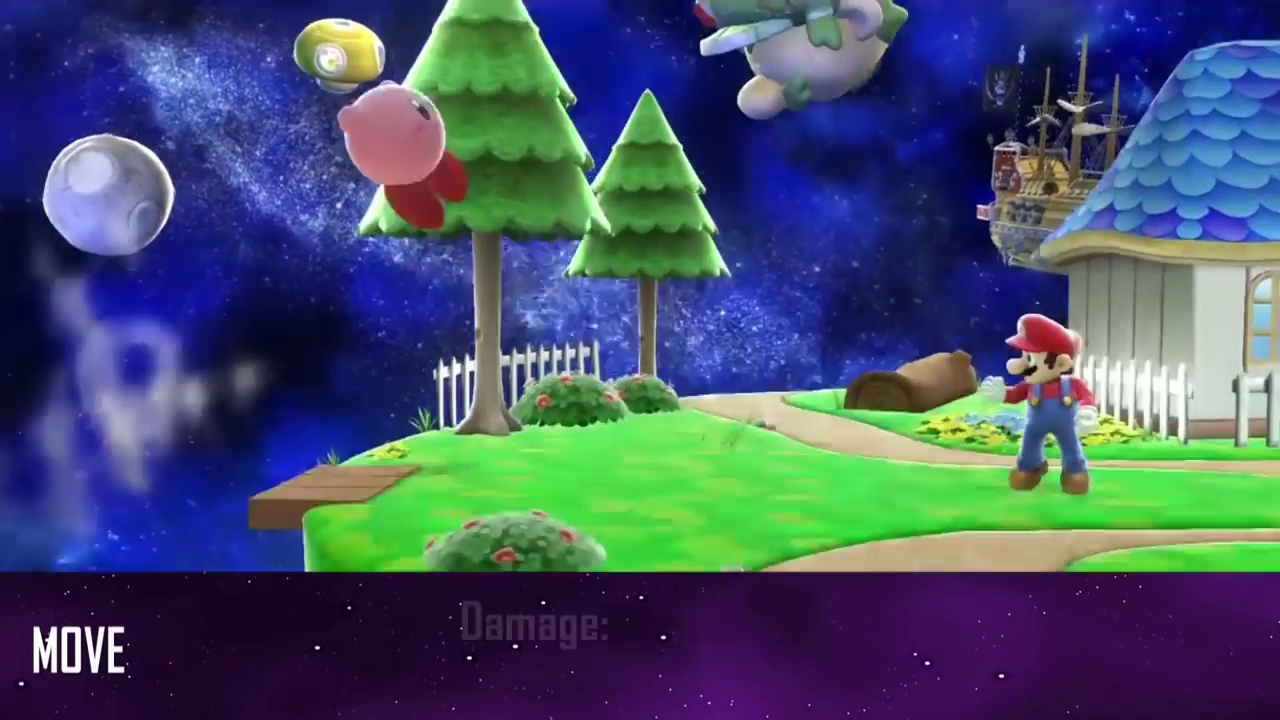Mario: (982, 312, 1099, 495)
